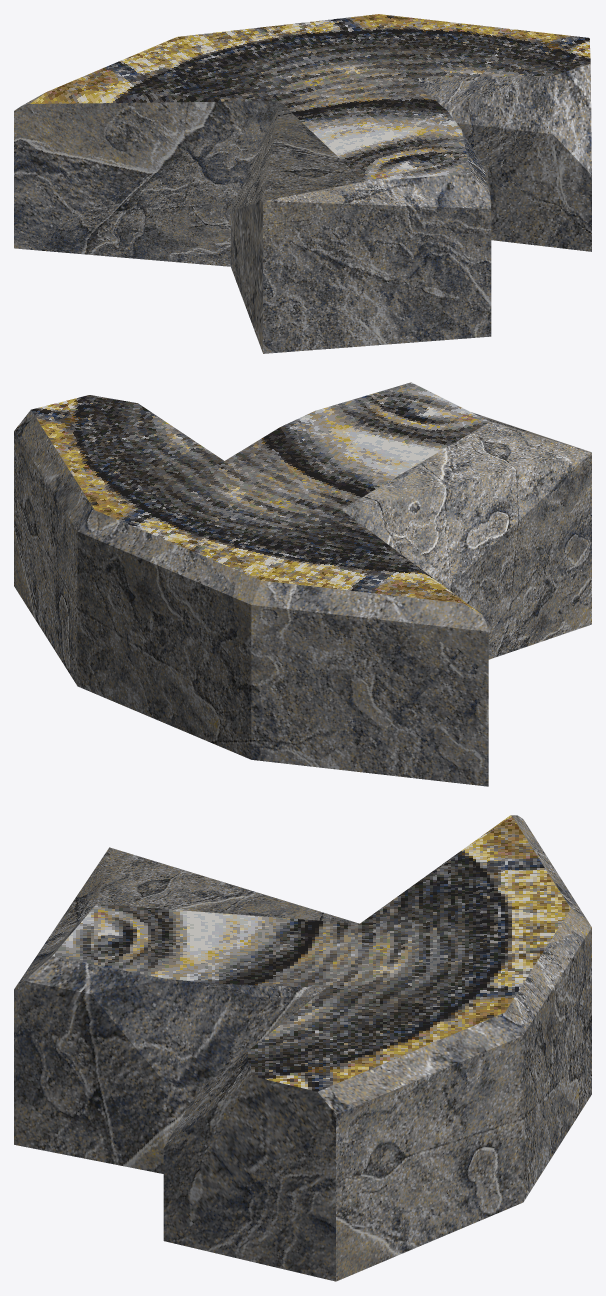
The model's file is chapel_key_1.glb.
3 renders of one model, top to bottom at view 1: azimuth 30°, elevation 25°; view 2: azimuth 150°, elevation 25°; view 3: azimuth 270°, elevation 25°, orthographic. The views are drawn at different scales.
Visible parts, largest first — view 1: key1; view 2: key1; view 3: key1.
Part boxes in pixels (x1,y1,x2,y2): key1: [14, 14, 591, 353]; key1: [14, 382, 591, 786]; key1: [14, 815, 591, 1281].
Size of the model in its own units: 0.3415 by 0.1 by 0.2823.
2 materials, 2 textured.
